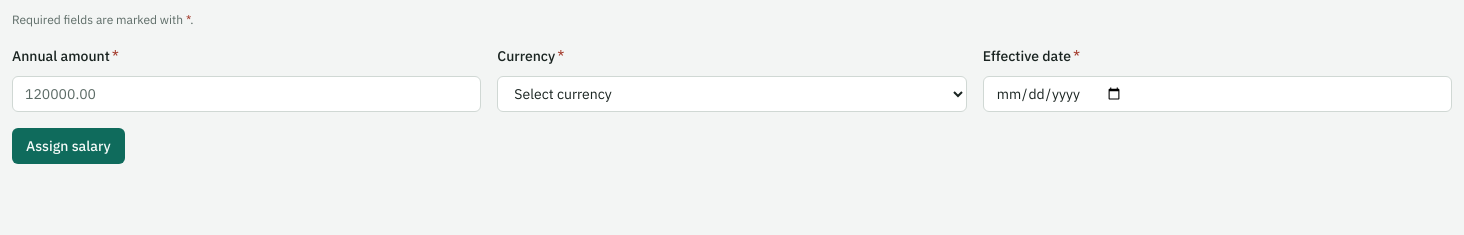
SalaryForm › surfaces SALARY_ALREADY_EXISTS without clearing form values
Type "90000.00" into the field labelled "Annual amount". click: (247, 94)
box: [12, 76, 481, 112]
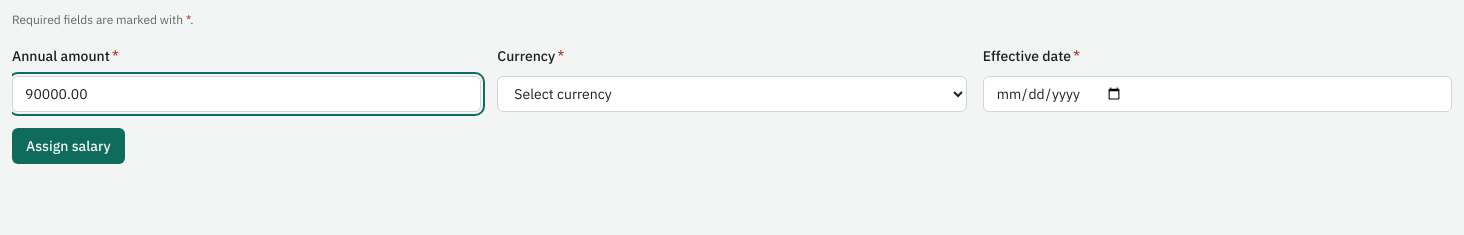
Select "USD" in the dropdown labelled "Currency". click: (732, 94)
box: [497, 76, 967, 112]
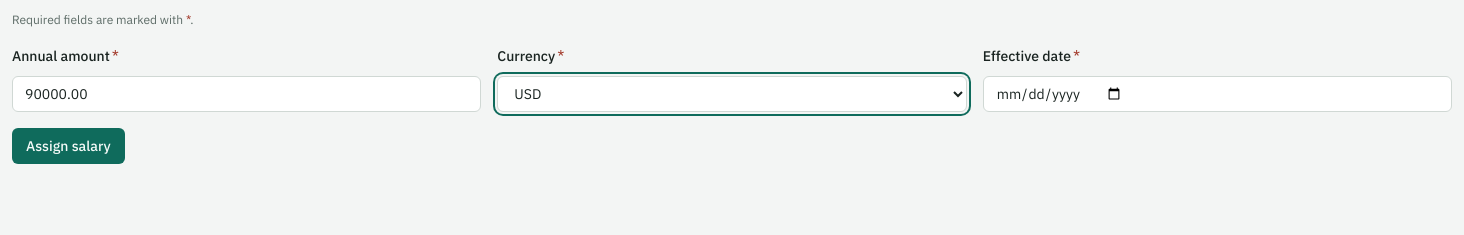
Type "2024-03-01" into the date field labelled "Effective date". click: (1217, 94)
box: [983, 76, 1452, 112]
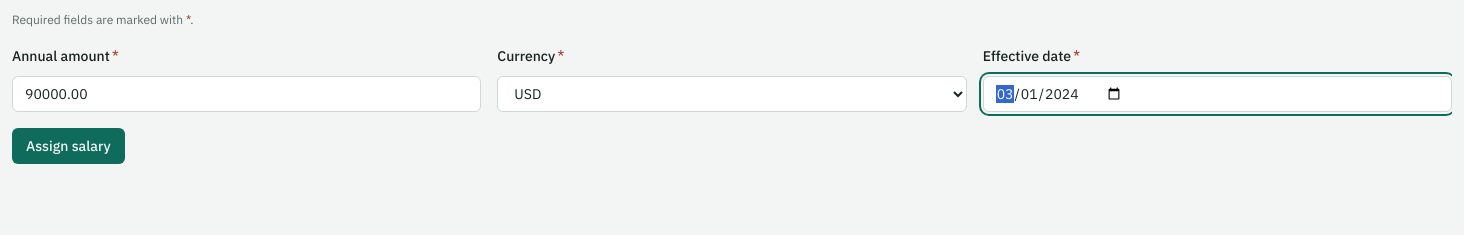
Click the button "Assign salary". click: (68, 146)
box: [12, 128, 125, 164]
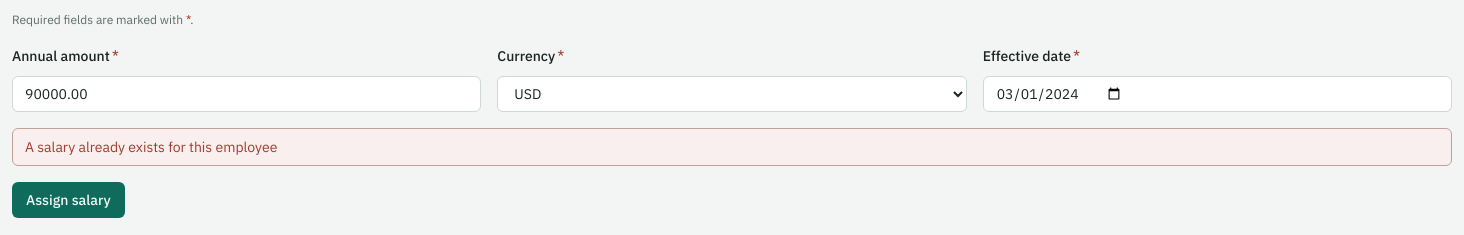
Expected: the text "A salary already exists for this employee" is shown, [12, 128, 1452, 166]
